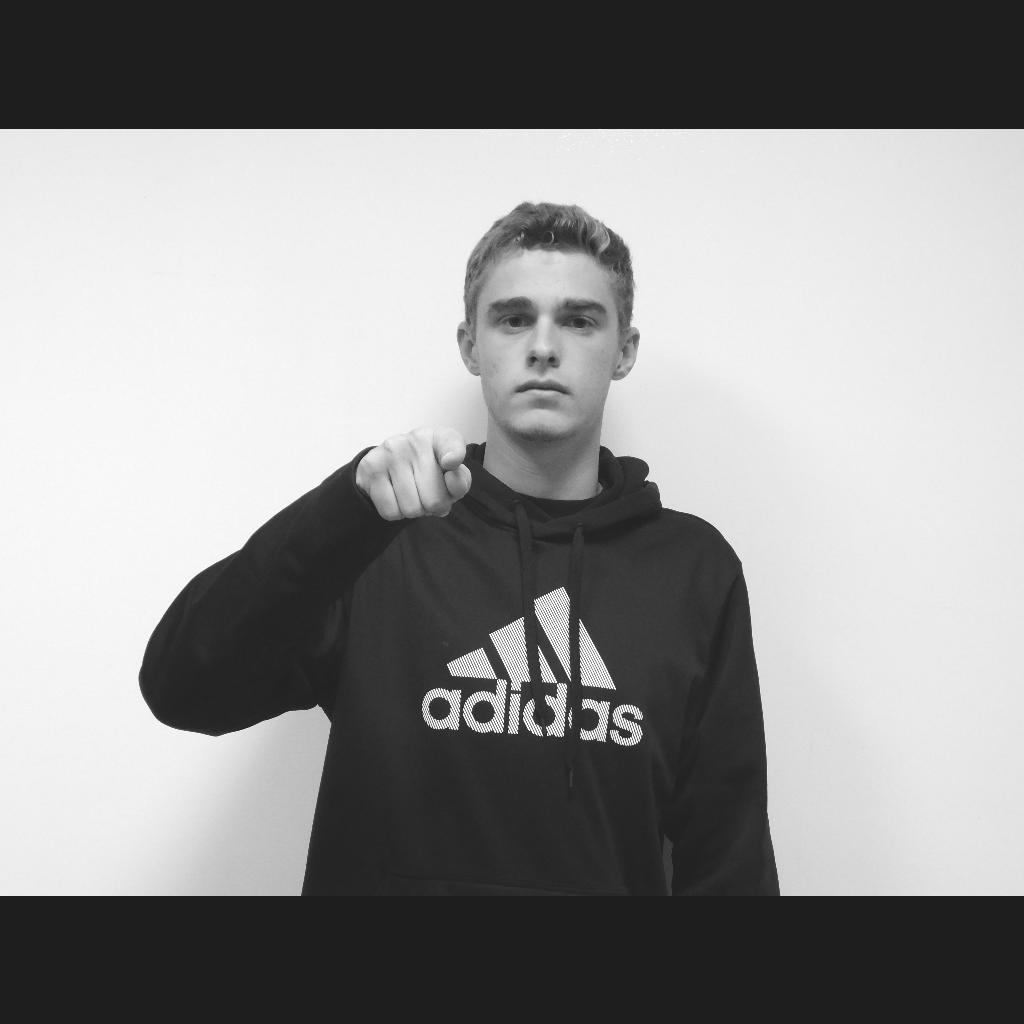you: (357, 422, 471, 520)
